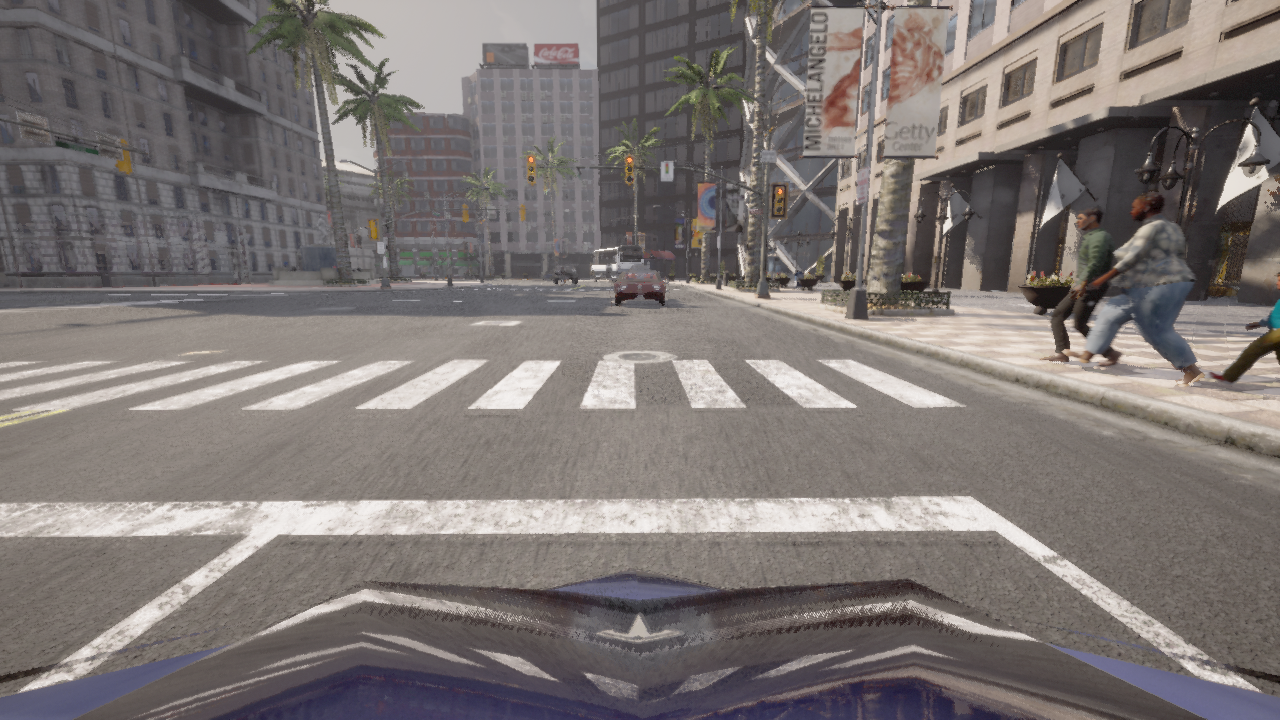cyclist: (0, 569, 1279, 719), (587, 245, 642, 283), (615, 271, 664, 304), (552, 264, 578, 284), (539, 270, 553, 280), (630, 266, 650, 270), (561, 278, 564, 285)
pedestrian: (1063, 192, 1205, 386), (1038, 206, 1123, 367), (1207, 272, 1279, 385)
